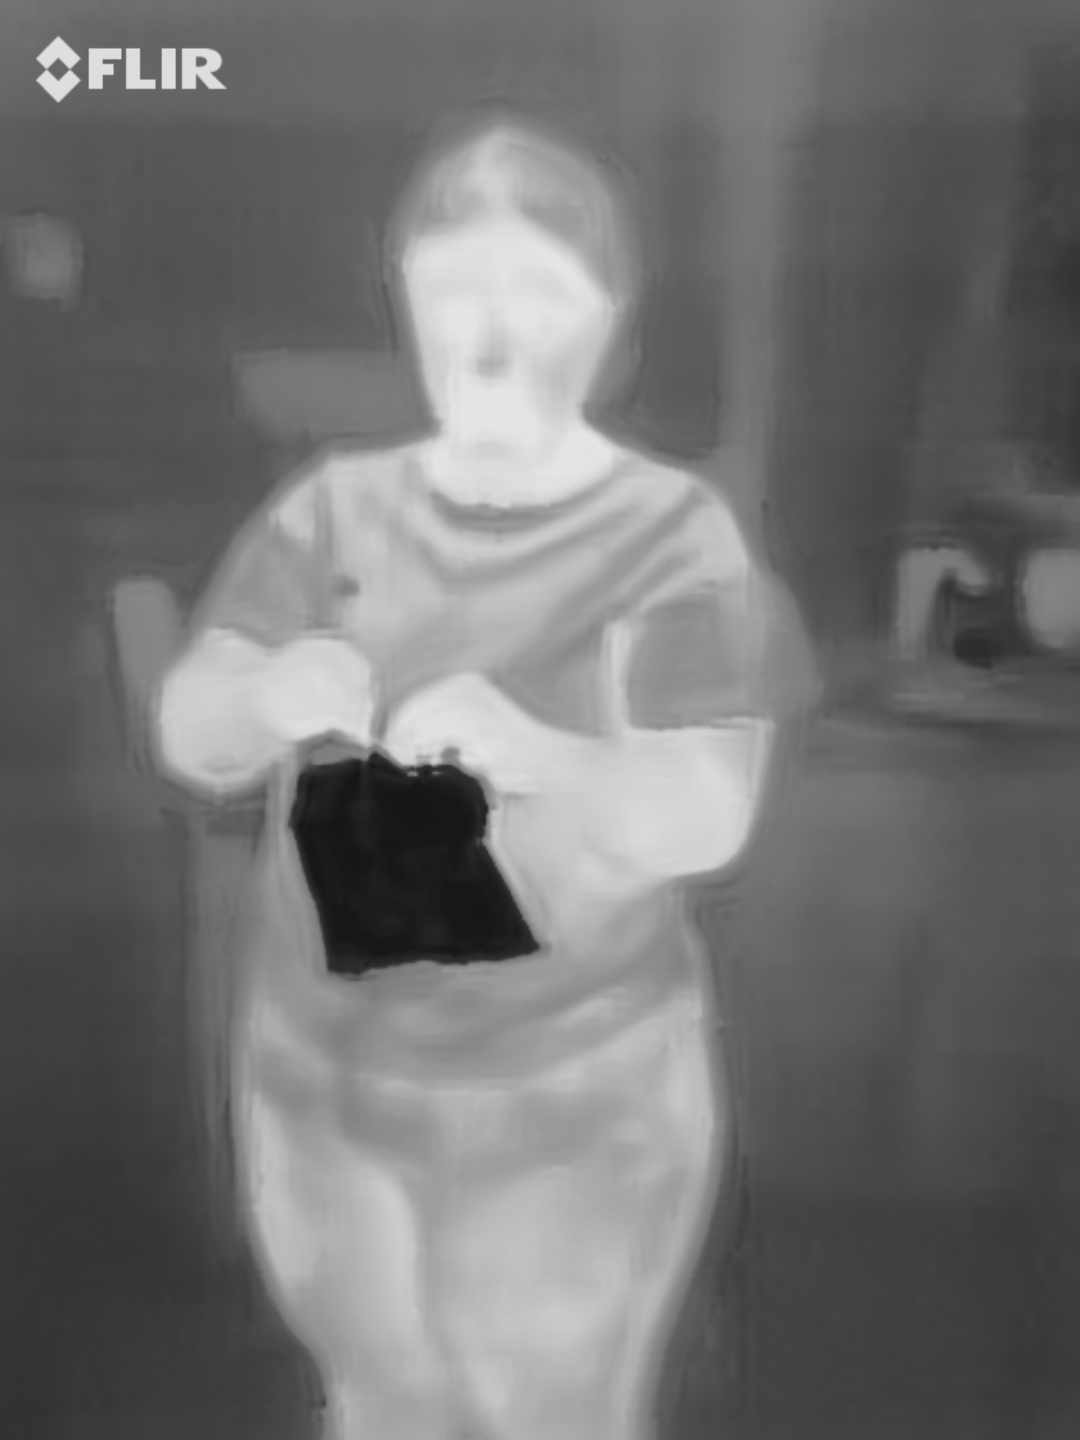head: (392, 125, 633, 462)
